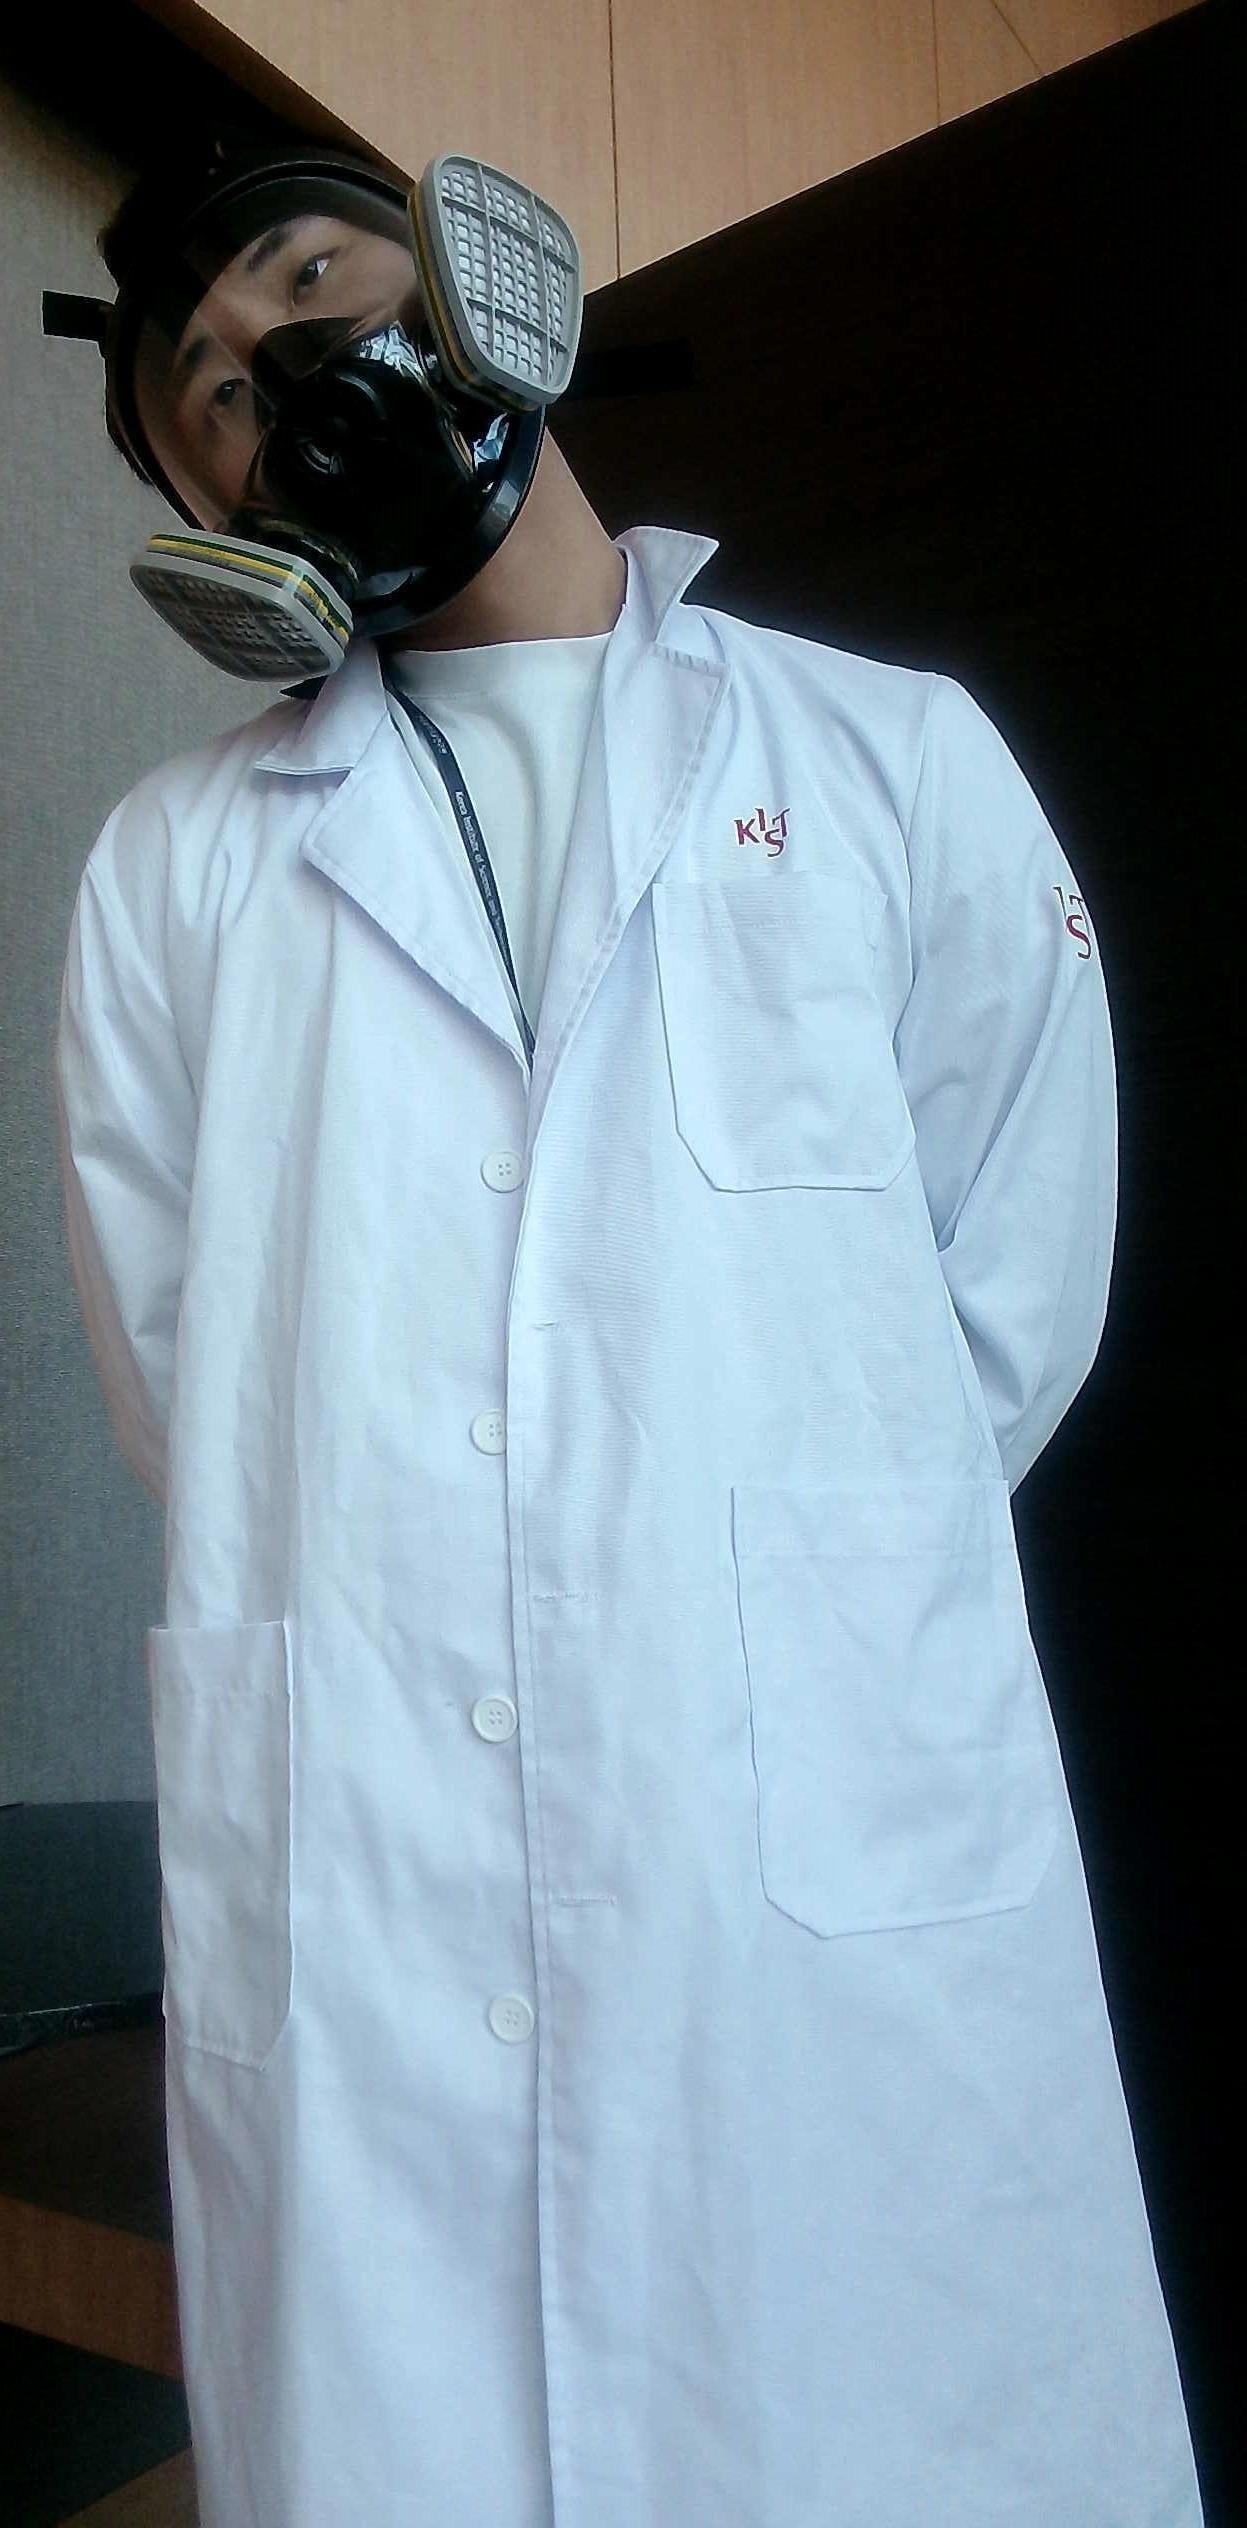lab_coat: (127, 680, 1100, 2528)
